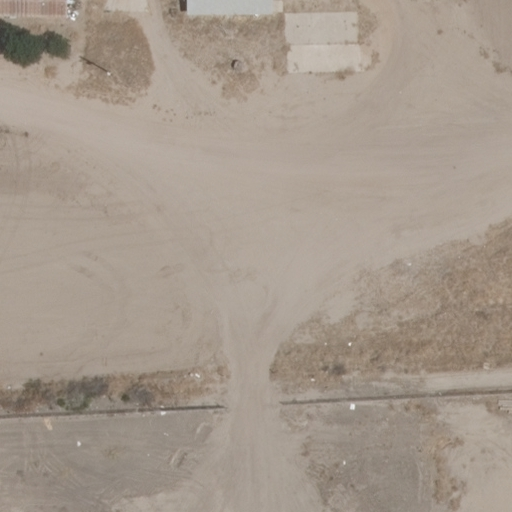DT: (103, 66, 116, 79)
